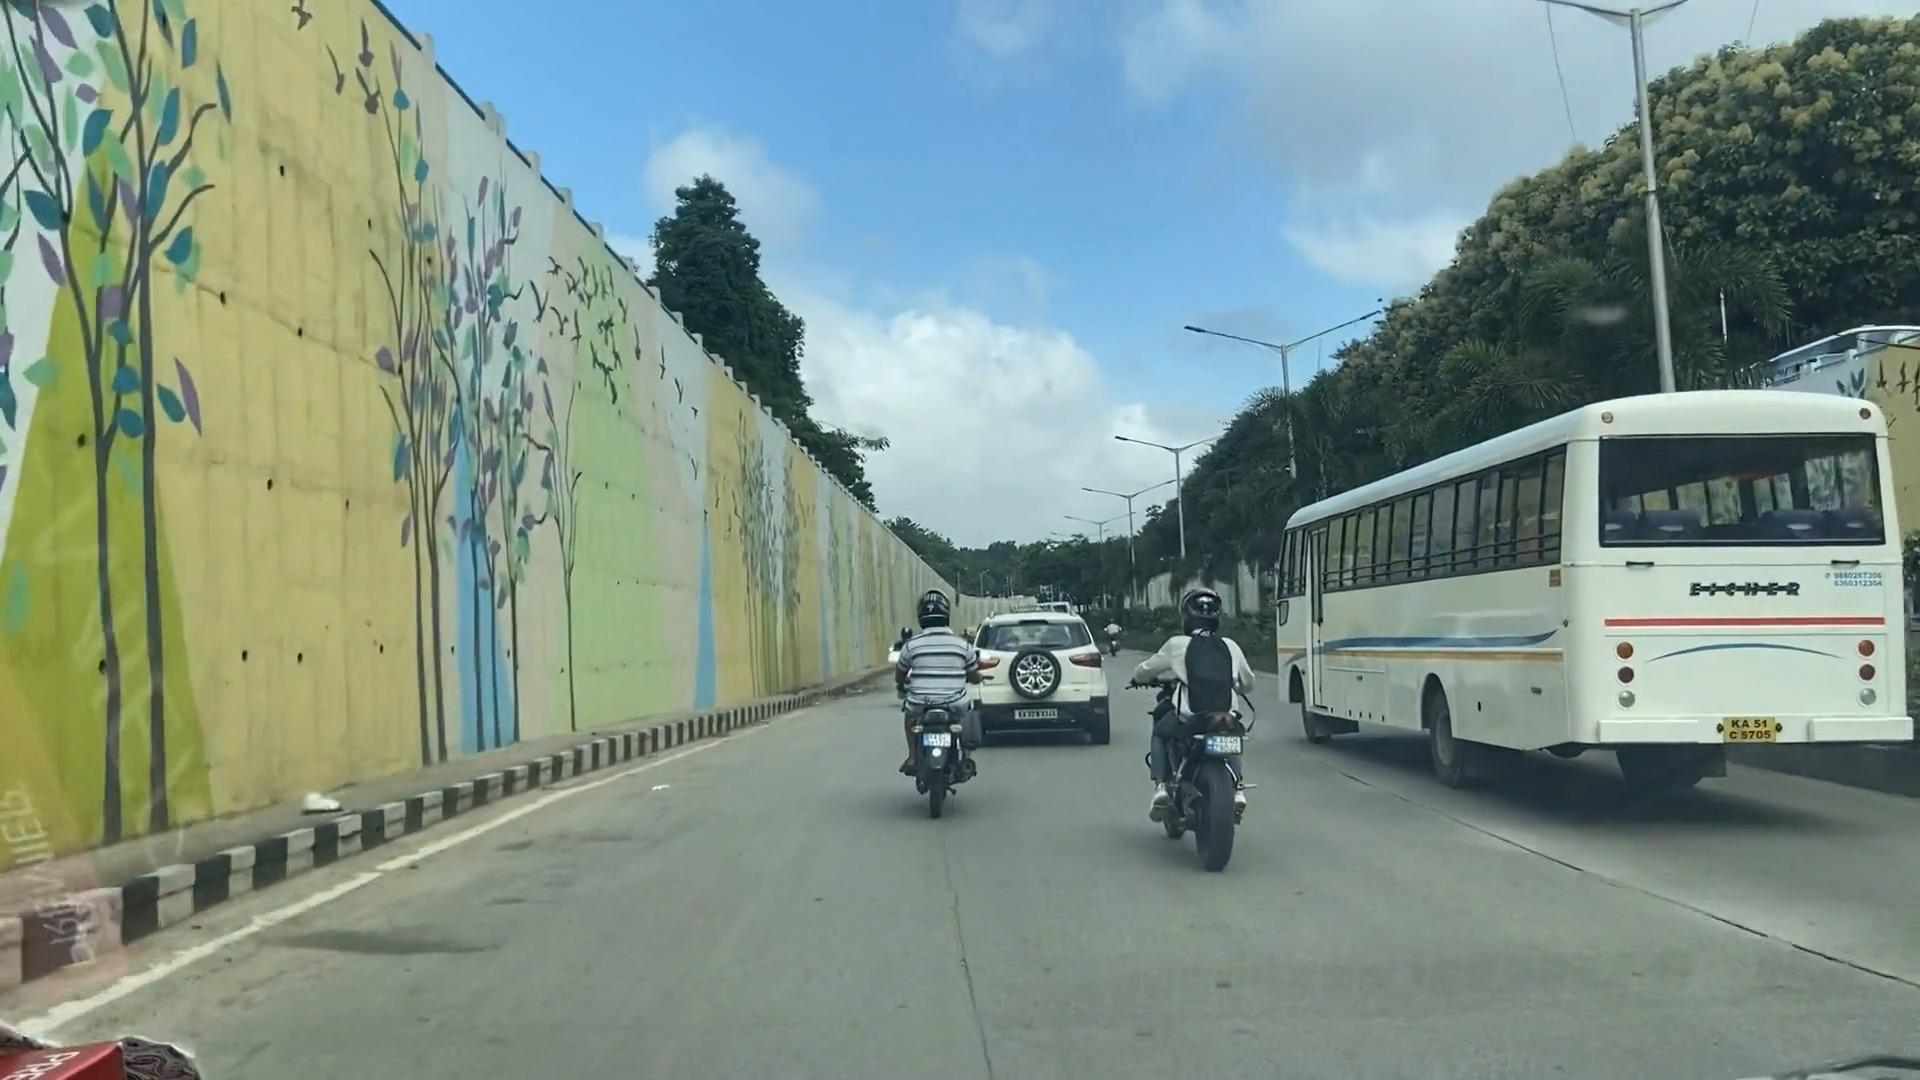HMV: (1279, 406, 1900, 748)
LMV: (1159, 603, 1250, 869), (971, 608, 1114, 746), (909, 601, 988, 766)
